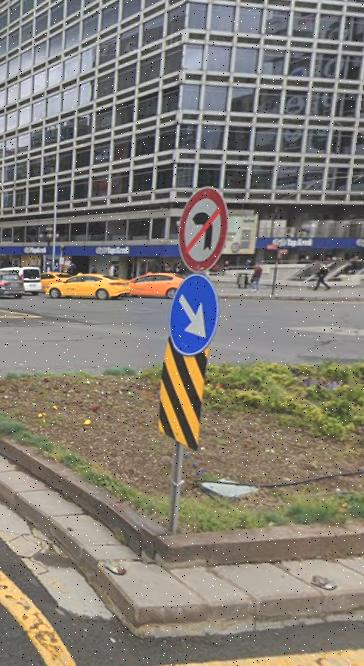leftturnsareforbidden: (177, 190, 228, 269)
